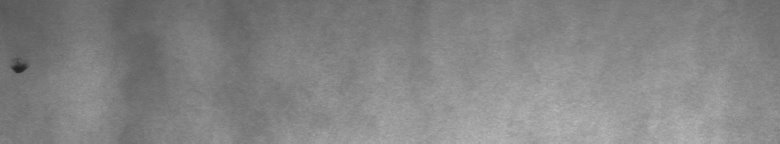fi: (4, 52, 32, 80)
